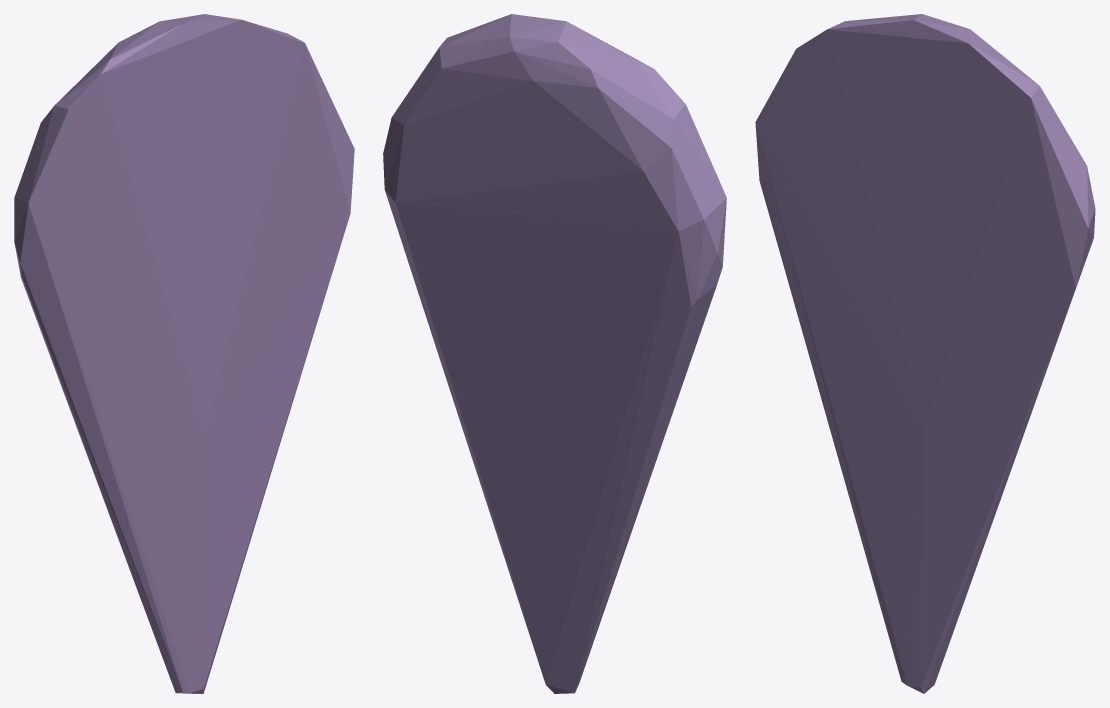
File: kitchenware_pan_j01.glb
3 renders of one model, left to right at view 1: azimuth 30°, elevation 25°; view 2: azimuth 150°, elevation 25°; view 3: azimuth 330°, elevation 25°, orthographic.
Visible parts, largest first — view 1: geometry_0; view 2: geometry_0; view 3: geometry_0.
Part boxes in pixels (<box>): geometry_0: <box>14,14,354,693</box>; geometry_0: <box>383,14,726,693</box>; geometry_0: <box>755,14,1095,693</box>.
Size of the model in its own units: 0.248 by 0.4787 by 0.0417.
